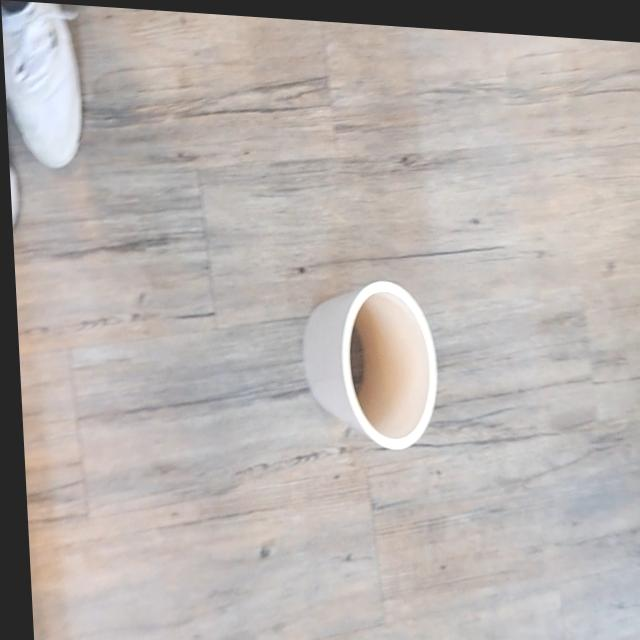CORAL: (285, 253, 458, 480)
